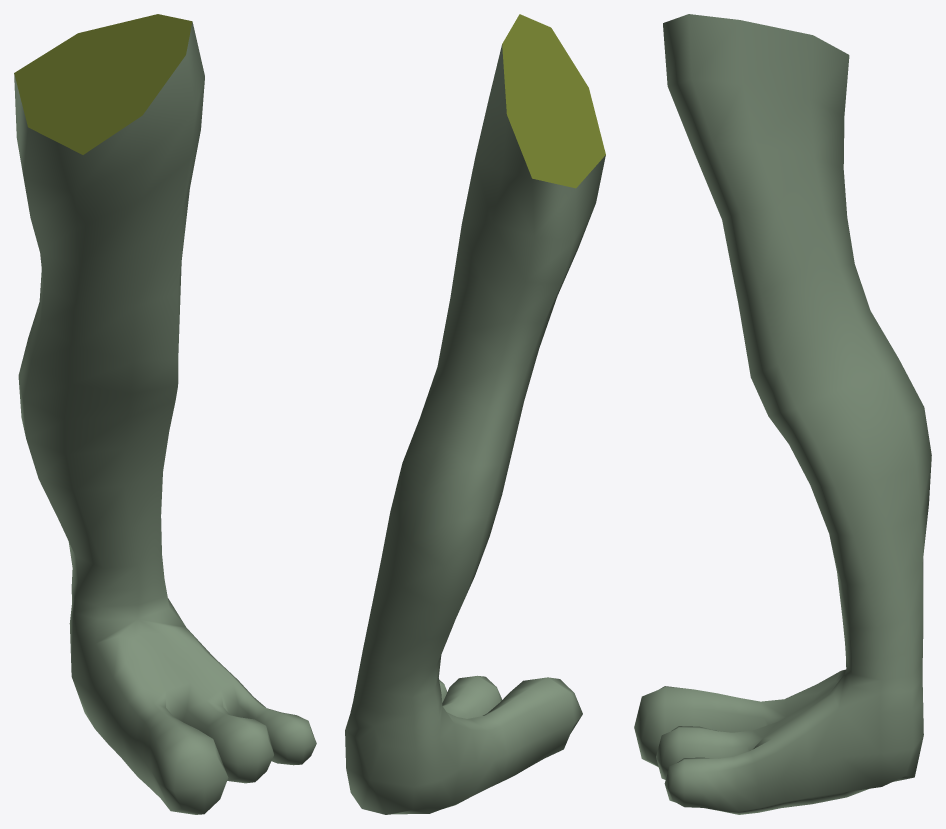
File: GreenLeg.fbx
3 views of the same model, side by side, from view 1: azimuth 30°, elevation 25°; view 2: azimuth 150°, elevation 25°; view 3: azimuth 270°, elevation 25° (orthographic). The views are drawn at different scales.
Visible parts, largest first — view 1: polySurface1; view 2: polySurface1; view 3: polySurface1.
Part boxes in pixels (x1,y1,x2,y2): polySurface1: [14, 14, 316, 814]; polySurface1: [345, 14, 605, 814]; polySurface1: [634, 14, 931, 814].
Size of the model in its own units: 31.01 by 99.88 by 35.41.
